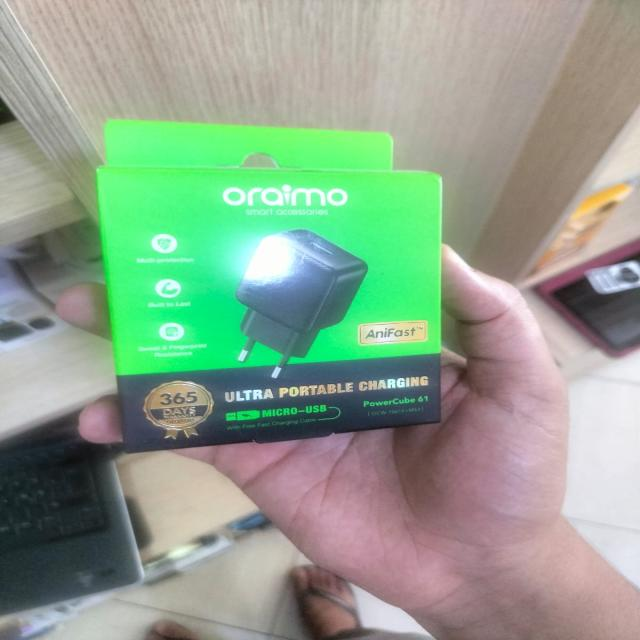PowerCube 10 Sleek OCW-1111ExM53: (360, 394, 431, 419)
